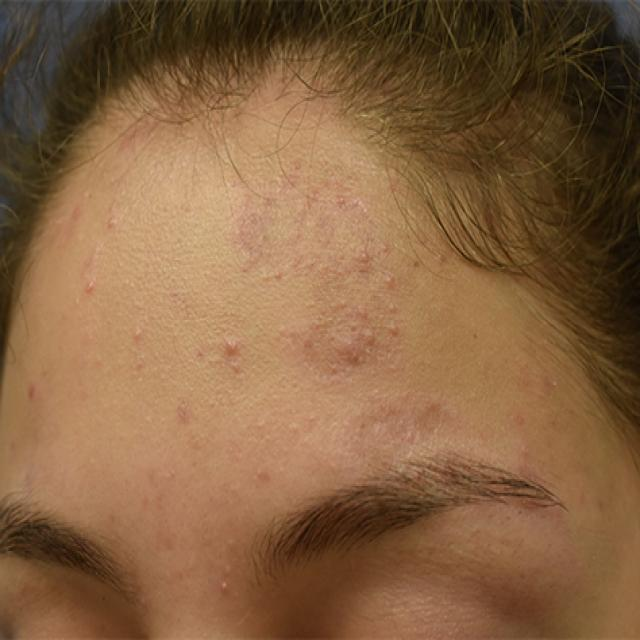lupus: (251, 147, 421, 390)
